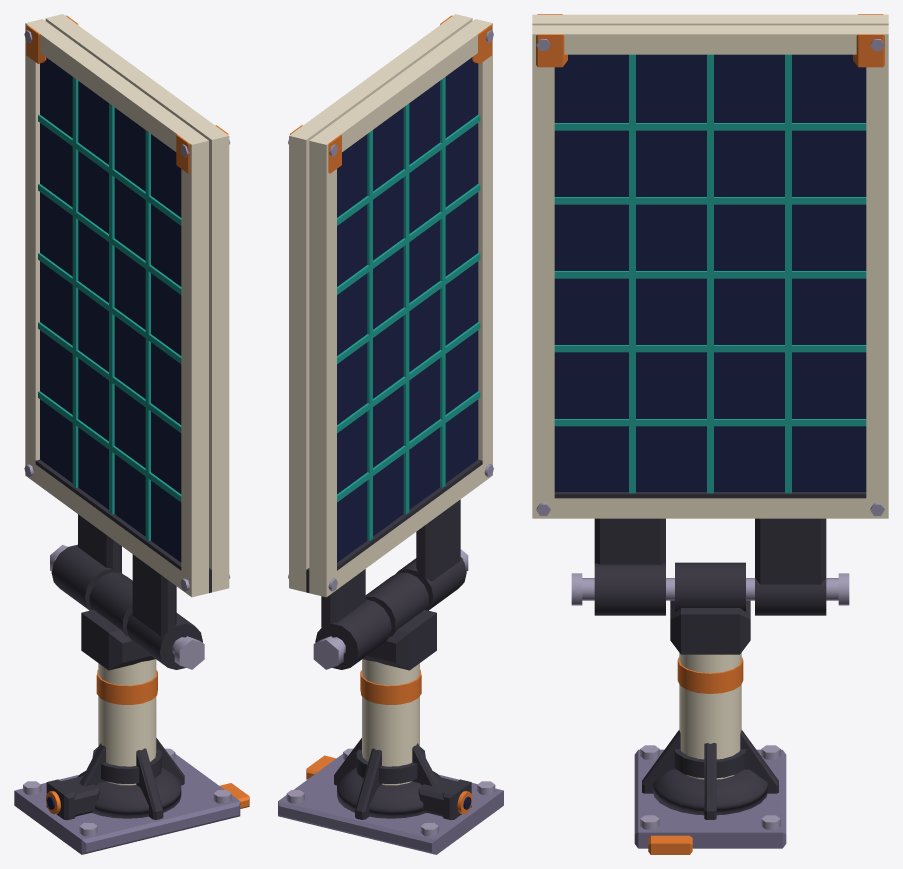
Rendered from solar_array.glb.
3 views of the same model, side by side, from view 1: azimuth 30°, elevation 25°; view 2: azimuth 150°, elevation 25°; view 3: azimuth 270°, elevation 25° (orthographic). The views are drawn at different scales.
Parts seen in each view (by area): view 1: panel_r_navy, panel_r_creamHull, panel_r_teal, panel_l_creamHull, boom_graphite, plate_purpleGrey, panel_r_graphite, boom_creamHull, panel_l_graphite, plate_orange, plate_purpleGreyLight, panel_r_orange; view 2: panel_r_navy, panel_r_creamHull, panel_r_teal, panel_l_creamHull, boom_graphite, plate_purpleGrey, panel_r_graphite, boom_creamHull, panel_l_graphite, plate_orange, plate_purpleGreyLight, panel_r_orange; view 3: panel_l_navy, panel_l_creamHull, panel_l_teal, boom_graphite, panel_l_graphite, panel_r_graphite, plate_purpleGrey, boom_creamHull, panel_r_creamHull, plate_purpleGreyLight, plate_orange, panel_l_orange.
Part boxes in pixels (x1,y1,x2,y2): panel_r_navy: (40,57,181,562); panel_r_creamHull: (25,19,208,597); panel_r_teal: (38,77,181,540); panel_l_creamHull: (45,14,229,592); boom_graphite: (46,572,184,820); plate_purpleGrey: (14,754,240,854); panel_r_graphite: (35,459,210,669); boom_creamHull: (98,659,156,785); panel_l_graphite: (51,514,211,610); plate_orange: (46,670,249,814); plate_purpleGreyLight: (23,545,231,836); panel_r_orange: (26,25,189,173); panel_r_navy: (337,57,478,562); panel_r_creamHull: (309,19,492,597); panel_r_teal: (337,77,480,541); panel_l_creamHull: (289,14,472,592); boom_graphite: (334,572,471,820); plate_purpleGrey: (278,754,503,854); panel_r_graphite: (307,459,482,610); boom_creamHull: (362,659,419,785); panel_l_graphite: (306,568,391,669); plate_orange: (306,669,472,814); plate_purpleGreyLight: (286,549,495,836); panel_r_orange: (328,25,491,173); panel_l_navy: (554,54,866,491); panel_l_creamHull: (532,25,888,518); panel_l_teal: (554,54,866,493); boom_graphite: (642,562,778,819); panel_l_graphite: (554,492,866,615); panel_r_graphite: (594,518,665,615); plate_purpleGrey: (634,749,786,848); boom_creamHull: (679,653,741,779); panel_r_creamHull: (532,14,888,25); plate_purpleGreyLight: (571,573,849,829); plate_orange: (648,657,743,854); panel_l_orange: (536,34,884,67).
Size of the model in its own units: 0.241 by 0.97 by 0.4.
